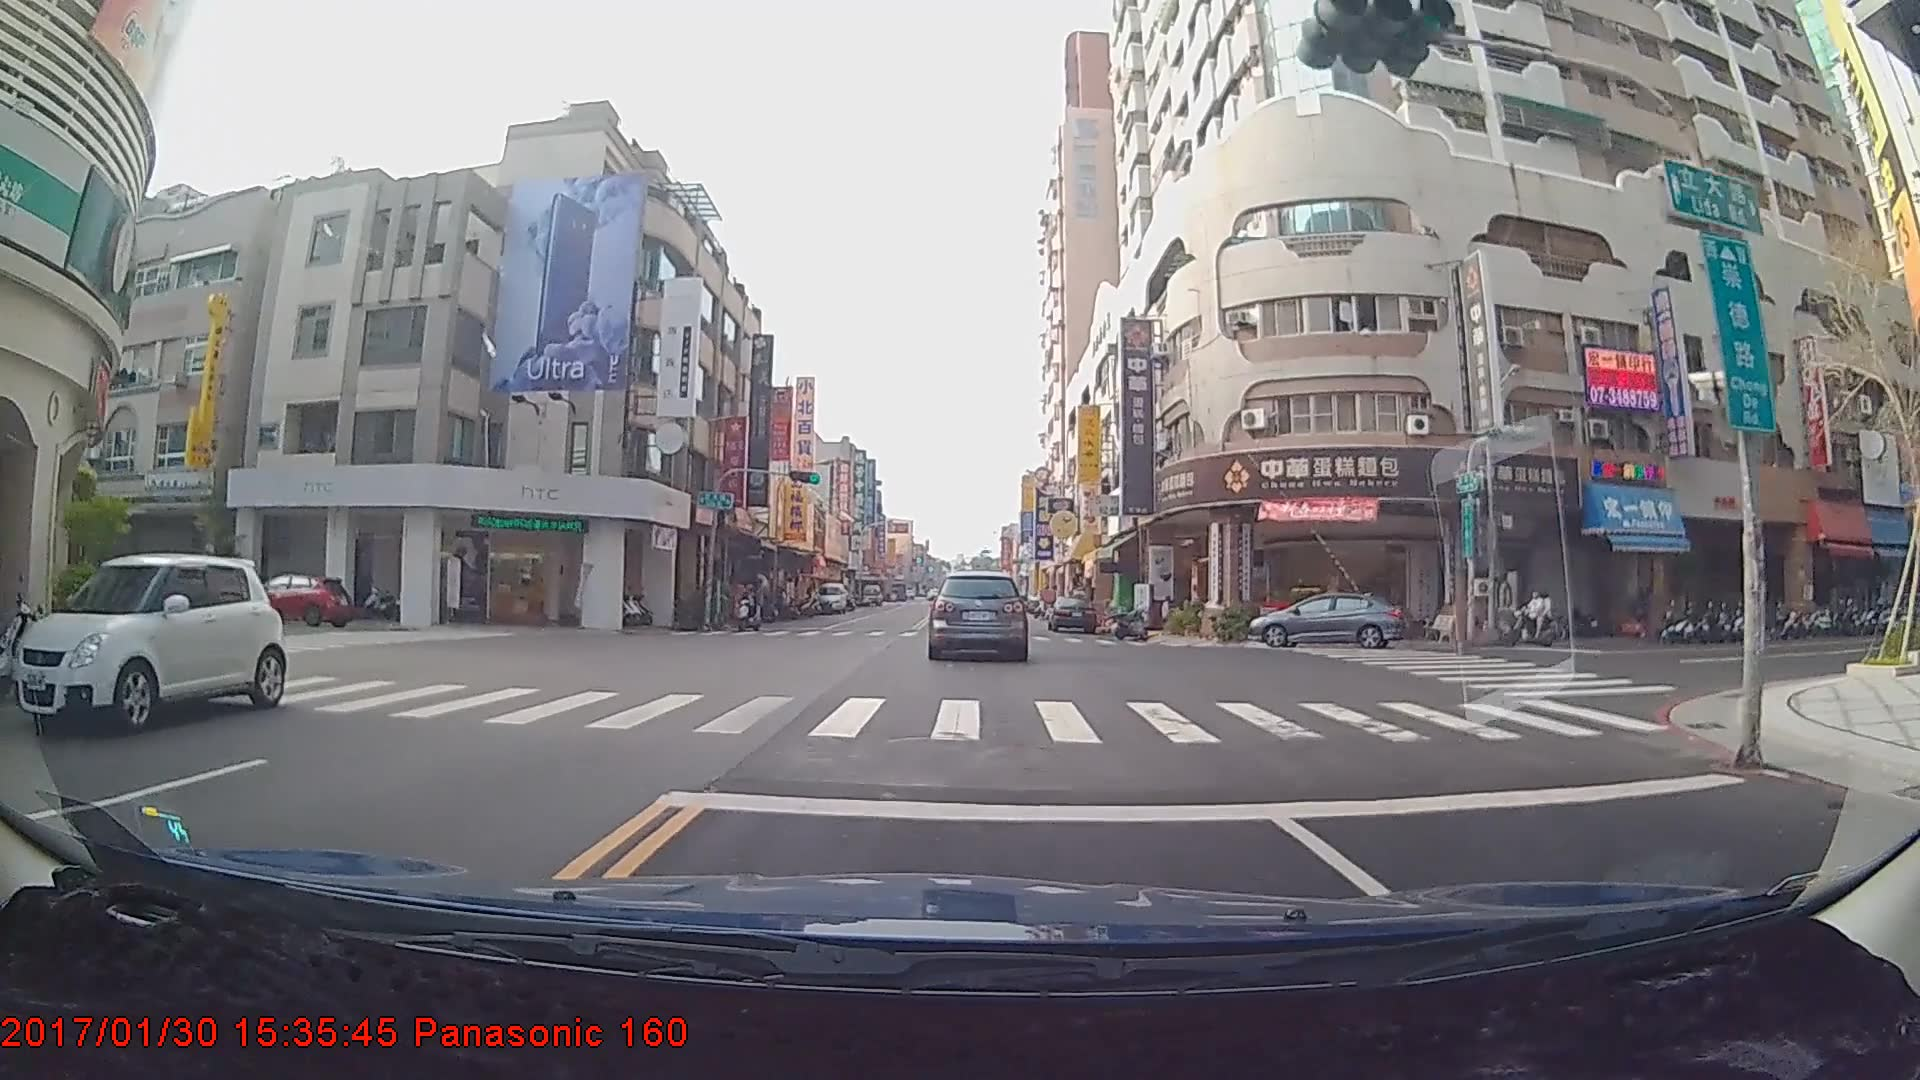rider: (1504, 589, 1563, 645), (729, 577, 764, 634)
vehicle: (10, 550, 287, 735), (1245, 589, 1403, 646), (928, 573, 1026, 660), (235, 573, 353, 630), (1046, 596, 1096, 633), (812, 583, 846, 615)
